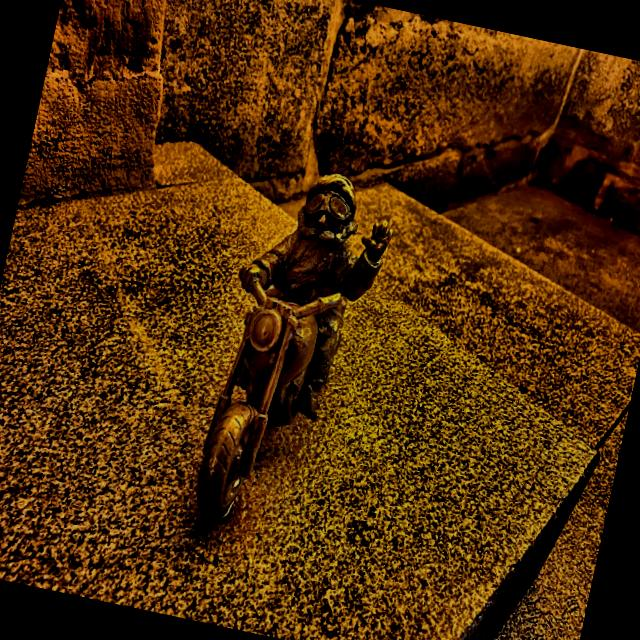Wentyl: (196, 174, 391, 521)
